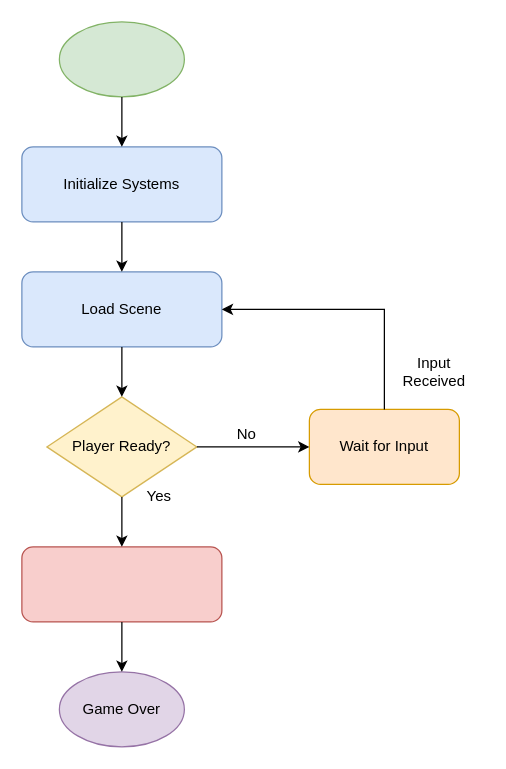
Image size: 506x769. Some labels were removed from this diagram. The shapes that lost their labels are listed below. From the top down, each one's centre as x and y in pixels, then its label:
At pixel 121 59: "Game Start".
At pixel 121 584: "Game Loop".
